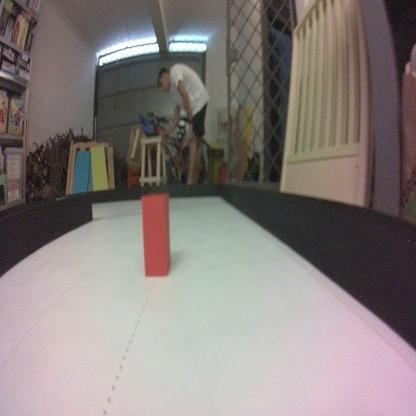red: (139, 191, 172, 279)
